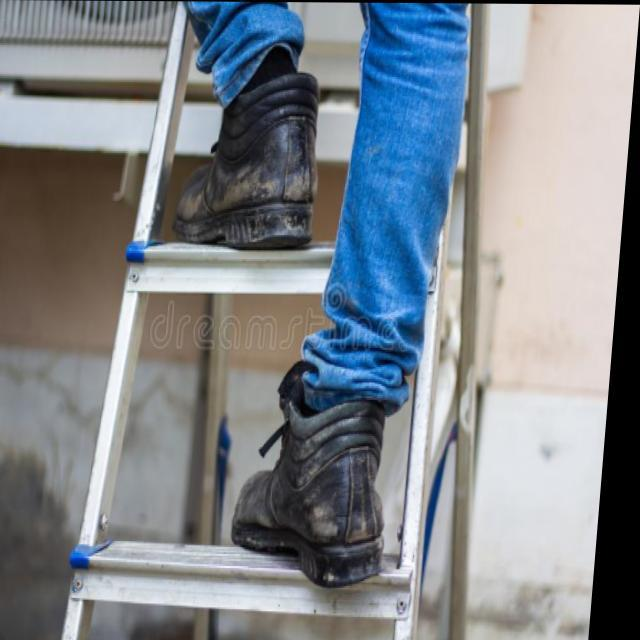shoes: (134, 31, 437, 590)
